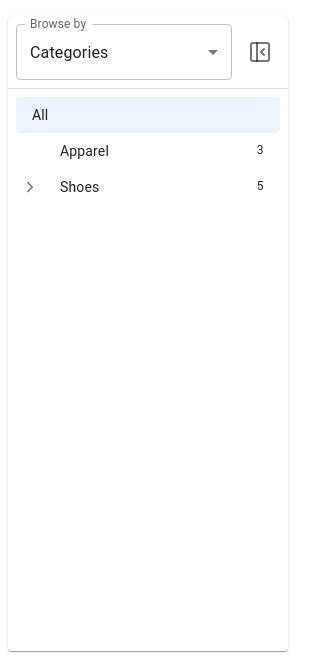
Test case: ExplorerBrowseRail › lists root targets alphabetically and loads children on expand
Step 1. Click the button named "Expand Shoes" → (30, 187), box x1=16 y1=173 x2=44 y2=201
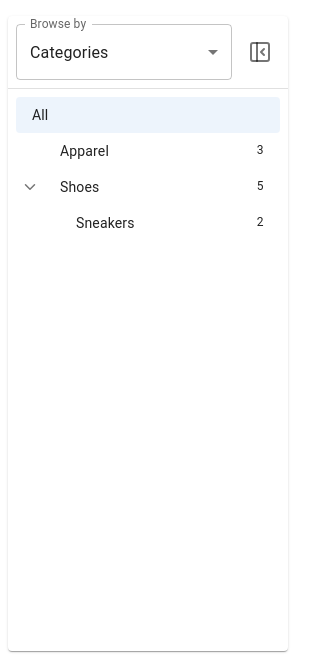
Expected: the text "Sneakers" is shown, x1=76 y1=215 x2=135 y2=231
Expected: the button named "Collapse Shoes" is expanded, x1=16 y1=173 x2=44 y2=201
